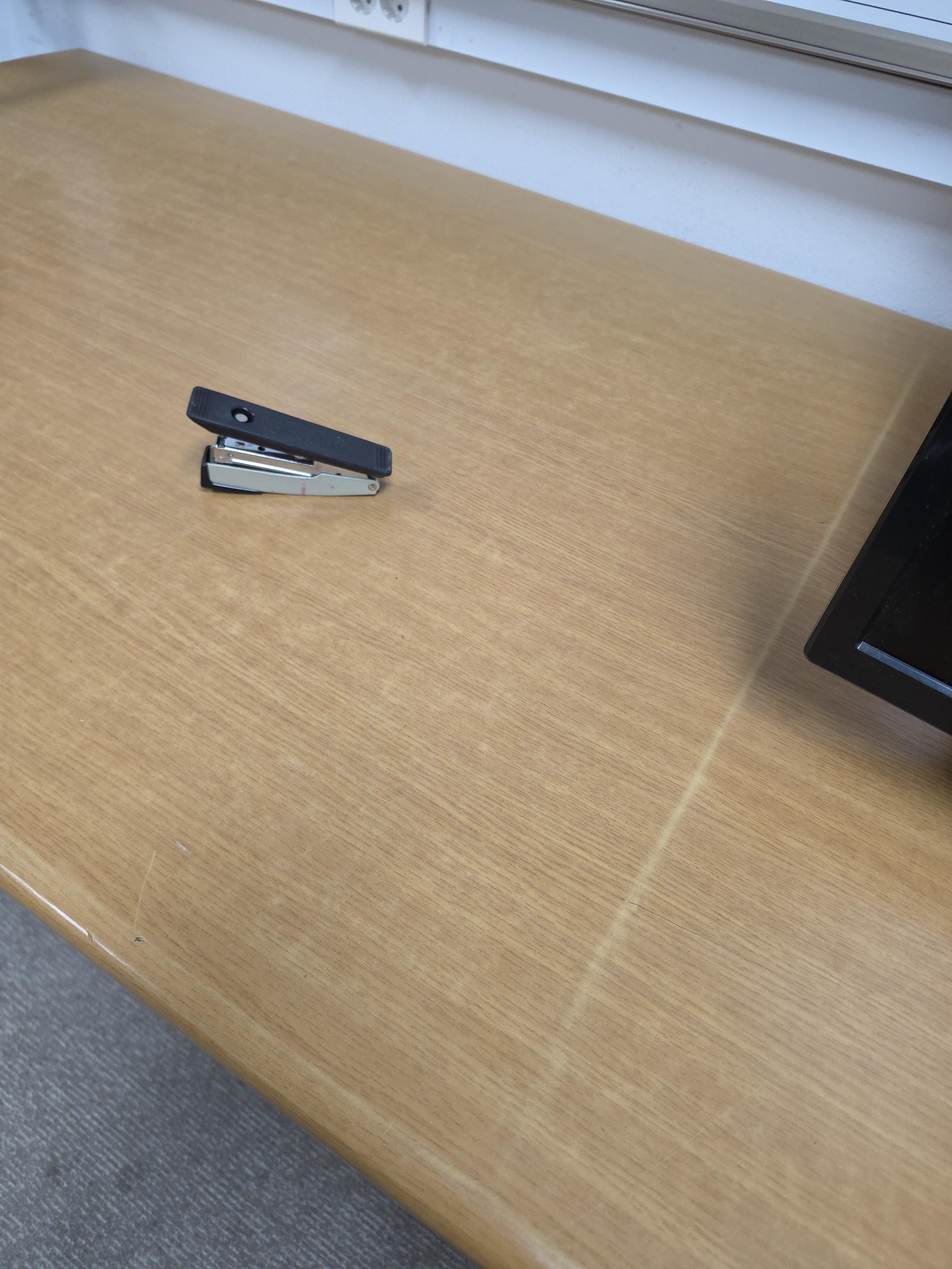stapler: (186, 385, 392, 497)
